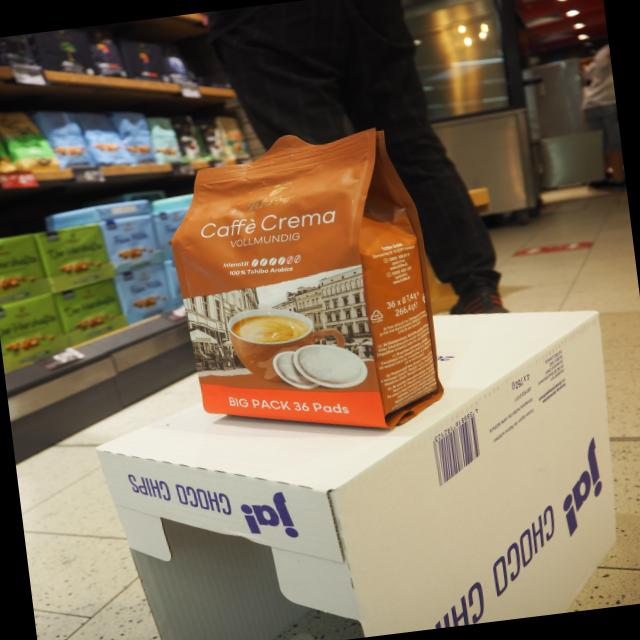CC Vollmundig: (156, 114, 451, 437)
